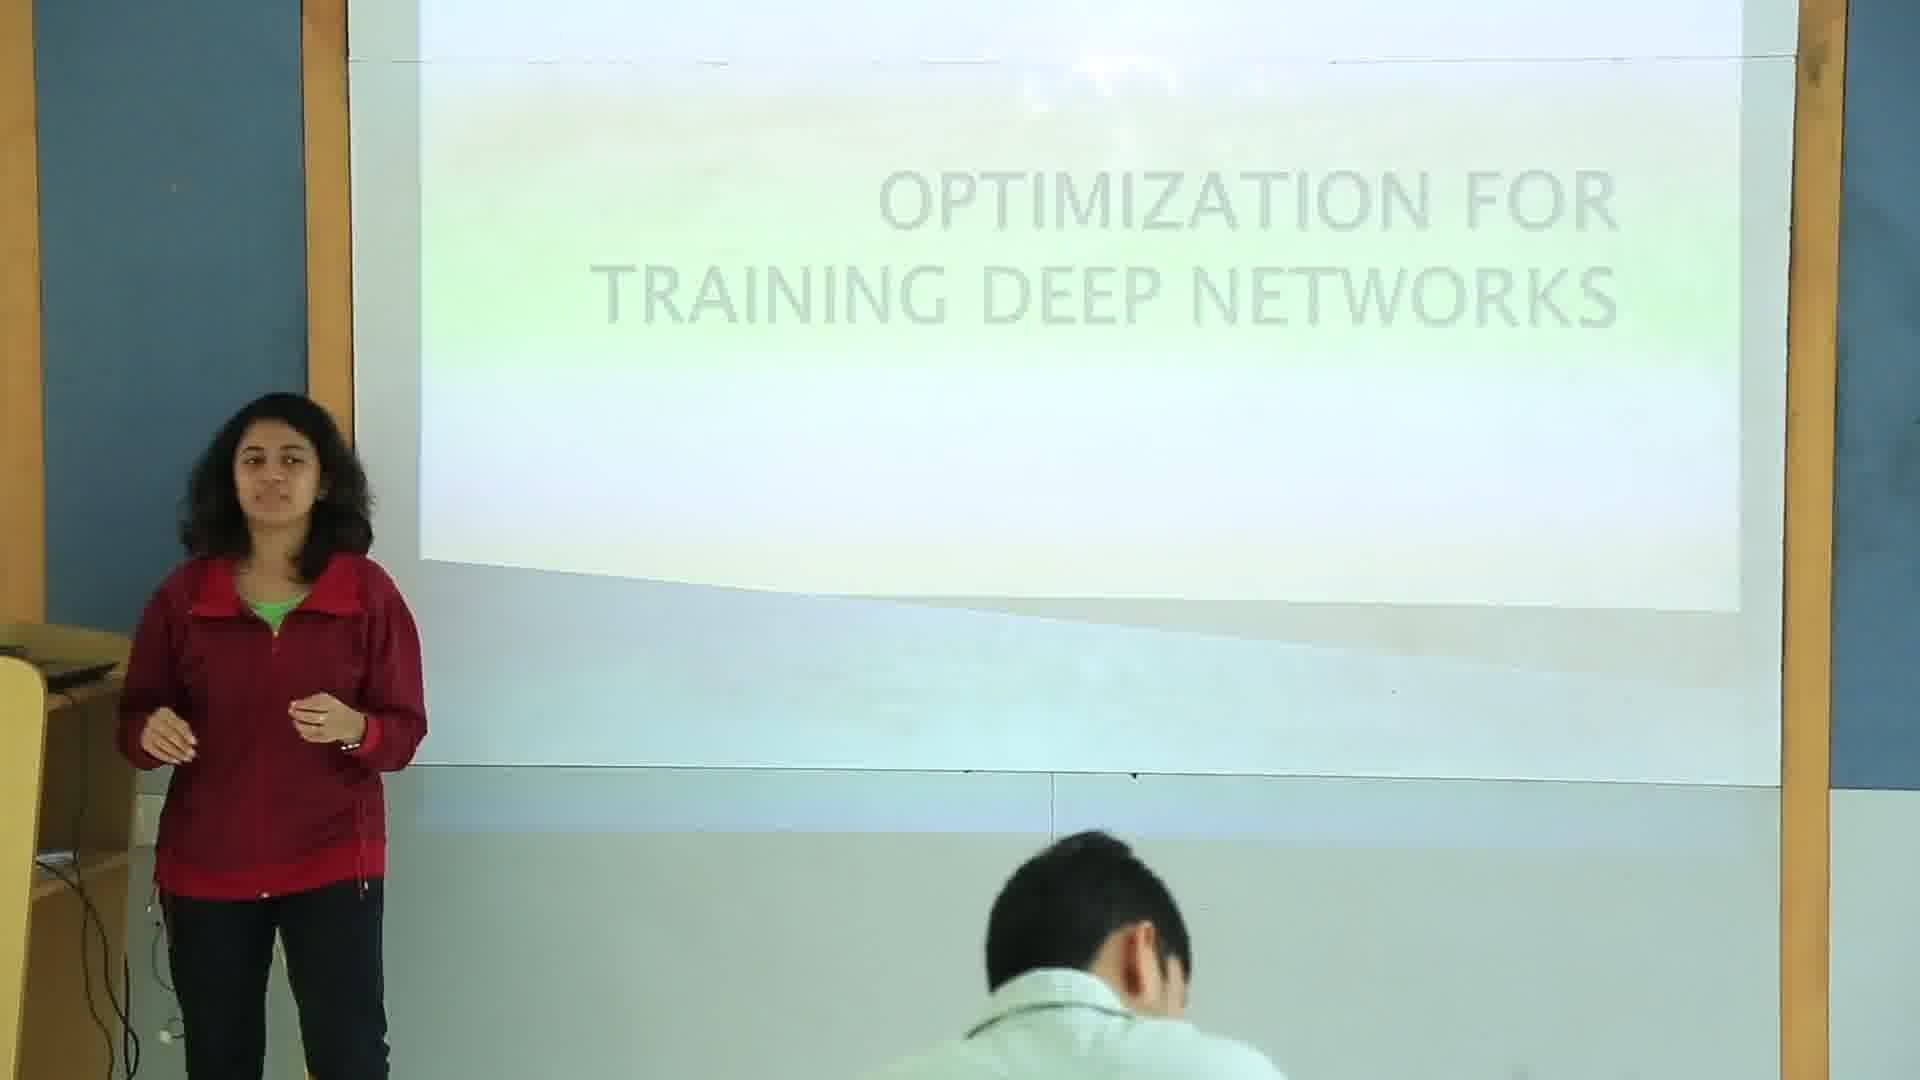slide: (421, 3, 1745, 845)
